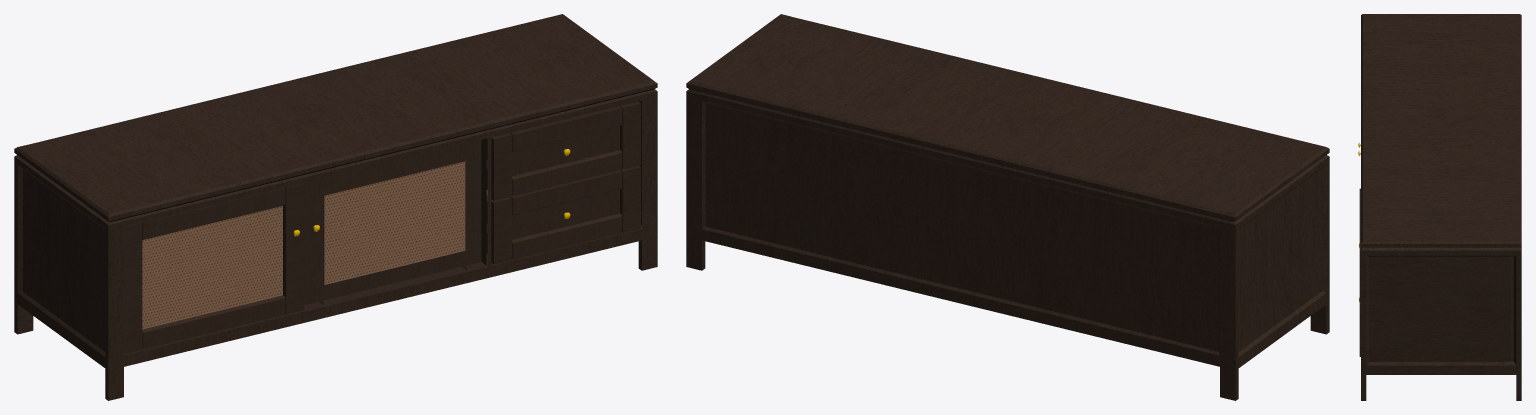
The model's file is mesa.gltf.
3 views of the same model, side by side, from view 1: azimuth 30°, elevation 25°; view 2: azimuth 150°, elevation 25°; view 3: azimuth 270°, elevation 25° (orthographic). The views are drawn at different scales.
Parts seen in each view (by area): view 1: rack, doorRight, doorLeft, drawerUp, drawerDown; view 2: rack; view 3: rack, drawerUp.
Boxes of the visible parts, bbox=[...] form: rack: bbox=[14, 14, 657, 400]; doorRight: bbox=[304, 139, 486, 309]; doorLeft: bbox=[124, 183, 304, 353]; drawerUp: bbox=[486, 101, 640, 200]; drawerDown: bbox=[486, 165, 640, 264]; rack: bbox=[686, 14, 1329, 400]; rack: bbox=[1361, 14, 1521, 400]; drawerUp: bbox=[1359, 188, 1360, 302].
Size of the model in its own units: 15.2 by 4.91 by 4.58.
